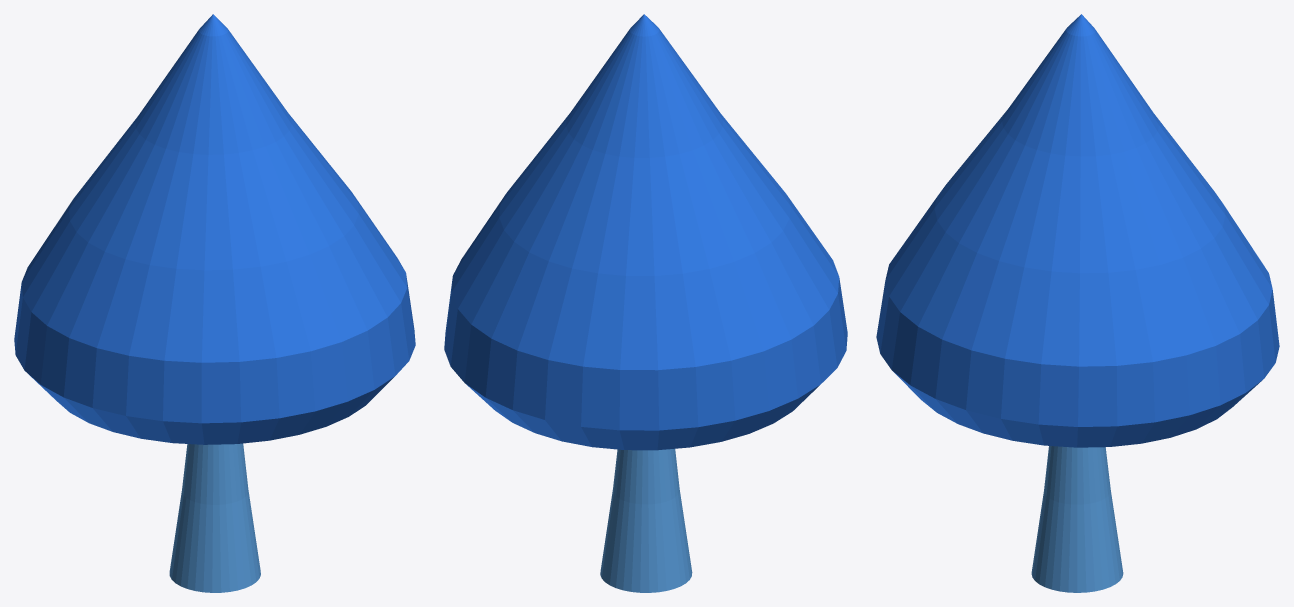
File: Grzybek3.fbx
The picture shows the model from 3 angles, left to right: view 1: azimuth 30°, elevation 25°; view 2: azimuth 150°, elevation 25°; view 3: azimuth 270°, elevation 25°; orthographic projection.
Visible parts, largest first — view 1: Circle.003; view 2: Circle.003; view 3: Circle.003.
Boxes of the visible parts, x1,y1,x2,y2 form: Circle.003: (14,14,415,592); Circle.003: (444,14,847,592); Circle.003: (876,14,1279,592).
Size of the model in its own units: 878 by 1344 by 878.
